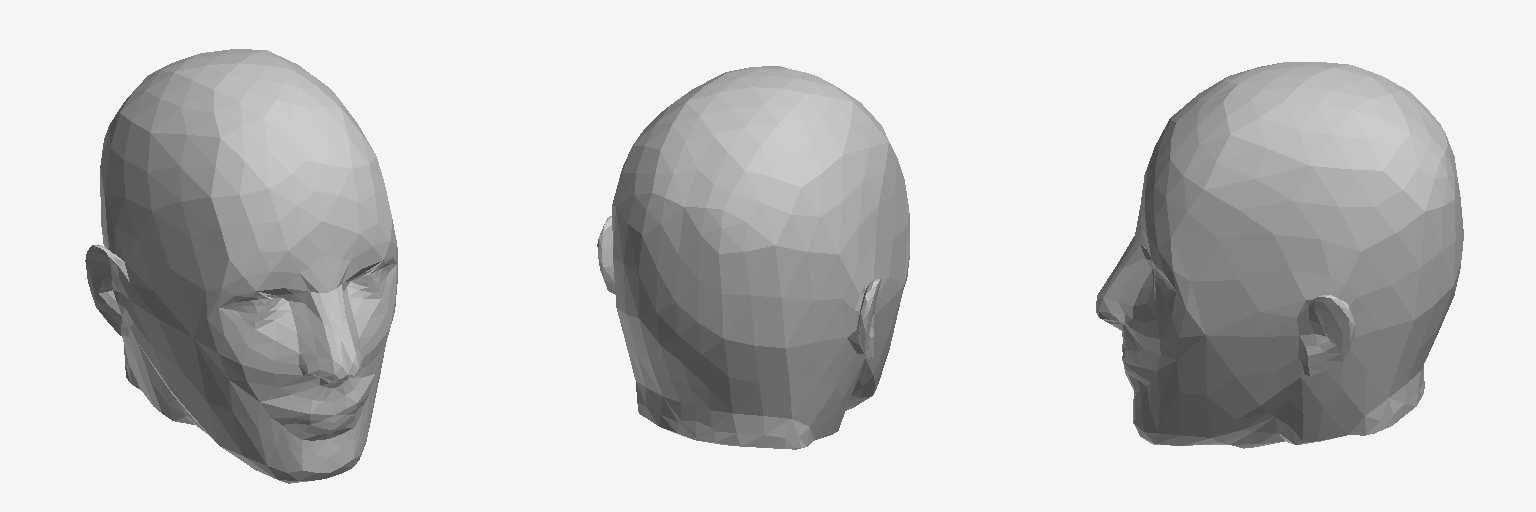
File: finalface2.obj
3 views of the same model, side by side, from view 1: azimuth 30°, elevation 25°; view 2: azimuth 150°, elevation 25°; view 3: azimuth 270°, elevation 25° (orthographic).
Visible parts, largest first — view 1: male_head.obj; view 2: male_head.obj; view 3: male_head.obj.
Part boxes in pixels (x1,y1,x2,y2): male_head.obj: (85,49,397,483); male_head.obj: (597,66,909,449); male_head.obj: (1096,62,1463,448).
Size of the model in its own units: 2.97 by 3.78 by 3.48.